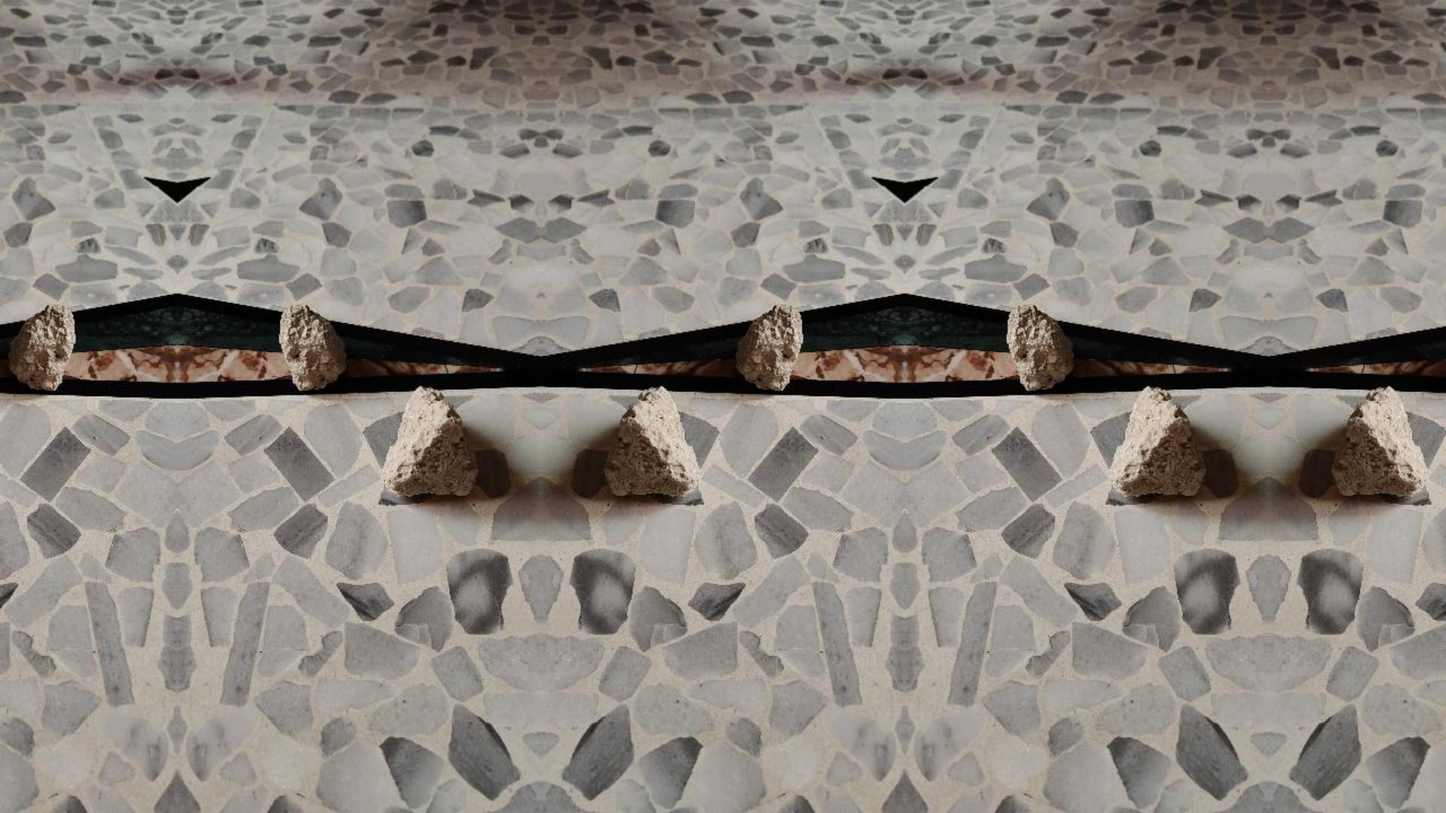rock: (1332, 387, 1426, 499), (1110, 386, 1204, 497), (604, 387, 698, 497), (383, 386, 476, 497), (279, 303, 346, 392), (8, 303, 75, 391), (735, 304, 802, 391), (1007, 303, 1072, 391)
